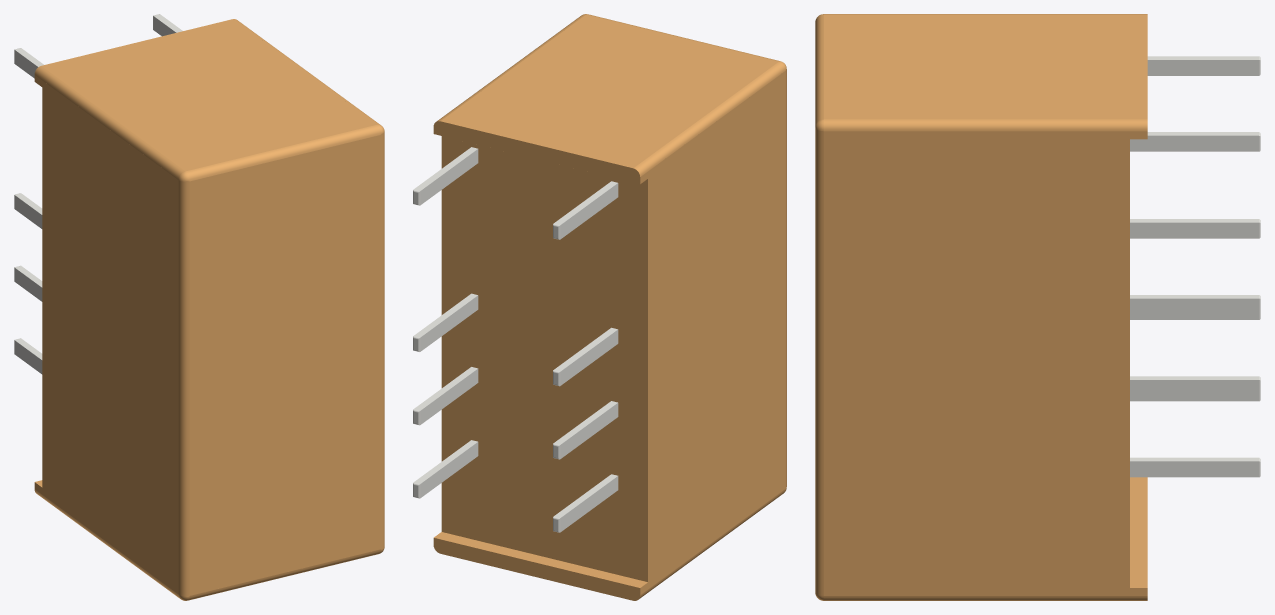
Rendered from Relay_DPDT_Kemet_EC2_NU.glb.
3 renders of one model, left to right at view 1: azimuth 30°, elevation 25°; view 2: azimuth 150°, elevation 25°; view 3: azimuth 270°, elevation 25°, orthographic. The views are drawn at different scales.
Parts seen in each view (by area): view 1: Shape_IndexedFaceSet, Shape_IndexedFaceSet.009, Shape_IndexedFaceSet.006, Shape_IndexedFaceSet.002, Shape_IndexedFaceSet.001, Shape_IndexedFaceSet.013, Shape_IndexedFaceSet.003, Shape_IndexedFaceSet.004, Shape_IndexedFaceSet.016; view 2: Shape_IndexedFaceSet.019, Shape_IndexedFaceSet.009, Shape_IndexedFaceSet.006, Shape_IndexedFaceSet.018, Shape_IndexedFaceSet.015, Shape_IndexedFaceSet.013, Shape_IndexedFaceSet.020, Shape_IndexedFaceSet.069, Shape_IndexedFaceSet.079, Shape_IndexedFaceSet.029, Shape_IndexedFaceSet.039, Shape_IndexedFaceSet.049 (+5 smaller); view 3: Shape_IndexedFaceSet.010, Shape_IndexedFaceSet.006, Shape_IndexedFaceSet.014, Shape_IndexedFaceSet.003, Shape_IndexedFaceSet.032, Shape_IndexedFaceSet.072, Shape_IndexedFaceSet.082, Shape_IndexedFaceSet.092, Shape_IndexedFaceSet.052, Shape_IndexedFaceSet.020, Shape_IndexedFaceSet.102, Shape_IndexedFaceSet.021 (+4 smaller).
Part boxes in pixels (bbox=[...]): Shape_IndexedFaceSet: bbox=[189, 135, 380, 595]; Shape_IndexedFaceSet.009: bbox=[34, 75, 178, 594]; Shape_IndexedFaceSet.006: bbox=[41, 19, 376, 171]; Shape_IndexedFaceSet.002: bbox=[178, 180, 189, 596]; Shape_IndexedFaceSet.001: bbox=[186, 125, 380, 181]; Shape_IndexedFaceSet.013: bbox=[34, 66, 185, 179]; Shape_IndexedFaceSet.003: bbox=[380, 133, 384, 548]; Shape_IndexedFaceSet.004: bbox=[188, 549, 380, 600]; Shape_IndexedFaceSet.016: bbox=[34, 489, 179, 598]; Shape_IndexedFaceSet.019: bbox=[441, 136, 647, 581]; Shape_IndexedFaceSet.009: bbox=[640, 71, 785, 594]; Shape_IndexedFaceSet.006: bbox=[441, 15, 778, 168]; Shape_IndexedFaceSet.018: bbox=[433, 538, 640, 600]; Shape_IndexedFaceSet.015: bbox=[433, 121, 640, 184]; Shape_IndexedFaceSet.013: bbox=[633, 62, 785, 176]; Shape_IndexedFaceSet.020: bbox=[434, 532, 647, 587]; Shape_IndexedFaceSet.069: bbox=[420, 295, 478, 351]; Shape_IndexedFaceSet.079: bbox=[560, 329, 618, 385]; Shape_IndexedFaceSet.029: bbox=[420, 442, 478, 497]; Shape_IndexedFaceSet.039: bbox=[560, 476, 618, 532]; Shape_IndexedFaceSet.049: bbox=[420, 369, 478, 424]; Shape_IndexedFaceSet.010: bbox=[824, 131, 1147, 595]; Shape_IndexedFaceSet.006: bbox=[824, 14, 1147, 119]; Shape_IndexedFaceSet.014: bbox=[824, 119, 1147, 131]; Shape_IndexedFaceSet.003: bbox=[815, 128, 823, 595]; Shape_IndexedFaceSet.032: bbox=[1130, 461, 1258, 477]; Shape_IndexedFaceSet.072: bbox=[1130, 298, 1258, 314]; Shape_IndexedFaceSet.082: bbox=[1130, 222, 1258, 238]; Shape_IndexedFaceSet.092: bbox=[1130, 135, 1258, 151]; Shape_IndexedFaceSet.052: bbox=[1130, 380, 1258, 395]; Shape_IndexedFaceSet.020: bbox=[1130, 477, 1147, 587]; Shape_IndexedFaceSet.102: bbox=[1147, 60, 1258, 75]; Shape_IndexedFaceSet.021: bbox=[824, 596, 1147, 600].
Size of the model in its own units: 2.95 by 5.91 by 4.96.
